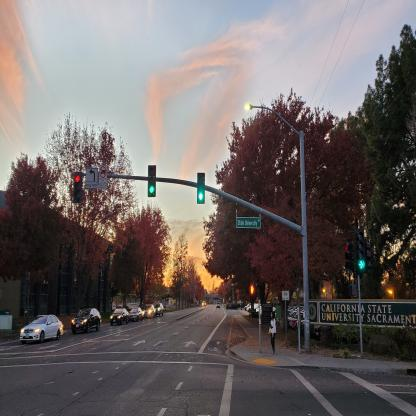green: (148, 165, 156, 197)
left-red: (73, 172, 83, 204)
